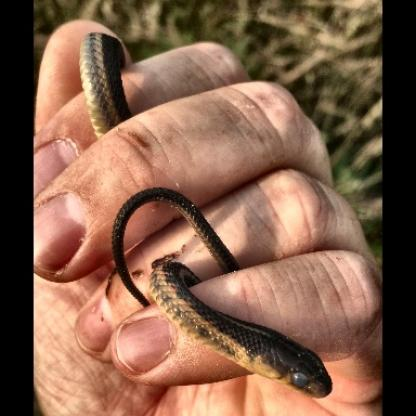Snake: (72, 27, 384, 408)
